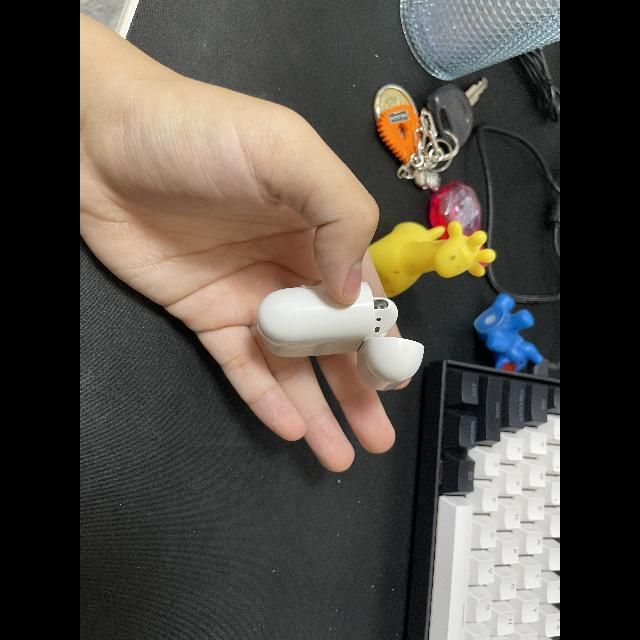airpod2: (255, 271, 425, 397)
